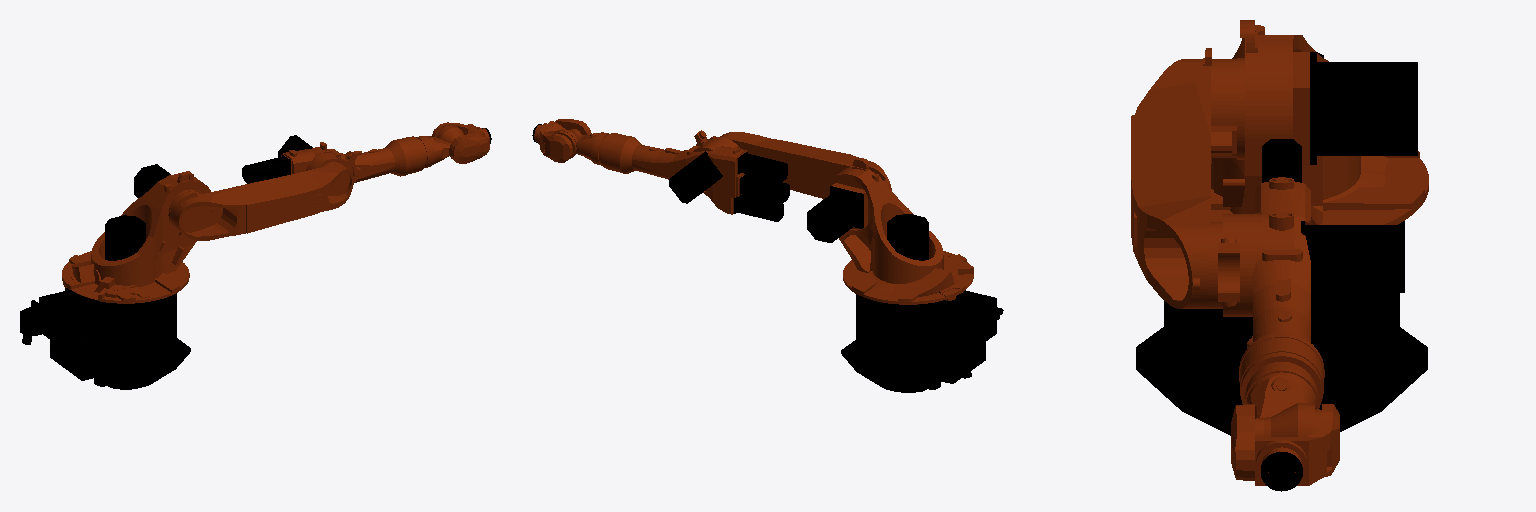
The robot description file, URDF, robot "kuka_kr16_2":
<?xml version='1.0' encoding='utf-8'?>
<robot name="kuka_kr16_2">
  
  
  <link name="base_link">
    <inertial>
      <origin rpy="0 0 0" xyz="0 0 0" />
      <mass value="2" />
      <inertia ixx="0.01" ixy="0" ixz="0" iyy="0.01" iyz="0" izz="0.01" />
    </inertial>
    <visual>
      <origin rpy="0 0 0" xyz="0 0 0" />
      <geometry>
        <mesh filename="meshes/base_link.dae" />
      </geometry>
    </visual>
    <collision>
      <origin rpy="0 0 0" xyz="0 0 0" />
      <geometry>
        <mesh filename="meshes/base_link.stl" />
      </geometry>
    </collision>
  </link>
  
  <link name="link_1">
    <inertial>
      <origin rpy="0 0 0" xyz="0 0 0" />
      <mass value="2" />
      <inertia ixx="0.01" ixy="0" ixz="0" iyy="0.01" iyz="0" izz="0.01" />
    </inertial>
    <visual>
      <origin rpy="0 0 0" xyz="0 0 0" />
      <geometry>
        <mesh filename="meshes/link_1.dae" />
      </geometry>
    </visual>
    <collision>
      <origin rpy="0 0 0" xyz="0 0 0" />
      <geometry>
        <mesh filename="meshes/link_1.stl" />
      </geometry>
    </collision>
  </link>
  
  <link name="link_2">
    <inertial>
      <origin rpy="0 0 0" xyz="0 0 0" />
      <mass value="2" />
      <inertia ixx="0.01" ixy="0" ixz="0" iyy="0.01" iyz="0" izz="0.01" />
    </inertial>
    <visual>
      <origin rpy="0 0 0" xyz="0 0 0" />
      <geometry>
        <mesh filename="meshes/link_2.dae" />
      </geometry>
    </visual>
    <collision>
      <origin rpy="0 0 0" xyz="0 0 0" />
      <geometry>
        <mesh filename="meshes/link_2.stl" />
      </geometry>
    </collision>
  </link>
  
  <link name="link_3">
    <inertial>
      <origin rpy="0 0 0" xyz="0 0 0" />
      <mass value="2" />
      <inertia ixx="0.01" ixy="0" ixz="0" iyy="0.01" iyz="0" izz="0.01" />
    </inertial>
    <visual>
      <origin rpy="0 0 0" xyz="0 0 0" />
      <geometry>
        <mesh filename="meshes/link_3.dae" />
      </geometry>
    </visual>
    <collision>
      <origin rpy="0 0 0" xyz="0 0 0" />
      <geometry>
        <mesh filename="meshes/link_3.stl" />
      </geometry>
    </collision>
  </link>
  
  <link name="link_4">
    <inertial>
      <origin rpy="0 0 0" xyz="0 0 0" />
      <mass value="2" />
      <inertia ixx="0.01" ixy="0" ixz="0" iyy="0.01" iyz="0" izz="0.01" />
    </inertial>
    <visual>
      <origin rpy="0 0 0" xyz="0 0 0" />
      <geometry>
        <mesh filename="meshes/link_4.dae" />
      </geometry>
    </visual>
    <collision>
      <origin rpy="0 0 0" xyz="0 0 0" />
      <geometry>
        <mesh filename="meshes/link_4.stl" />
      </geometry>
    </collision>
  </link>
  
  <link name="link_5">
    <inertial>
      <origin rpy="0 0 0" xyz="0 0 0" />
      <mass value="2" />
      <inertia ixx="0.01" ixy="0" ixz="0" iyy="0.01" iyz="0" izz="0.01" />
    </inertial>
    <visual>
      <origin rpy="0 0 0" xyz="0 0 0" />
      <geometry>
        <mesh filename="meshes/link_5.dae" />
      </geometry>
    </visual>
    <collision>
      <origin rpy="0 0 0" xyz="0 0 0" />
      <geometry>
        <mesh filename="meshes/link_5.stl" />
      </geometry>
    </collision>
  </link>
  
  <link name="link_6">
    <inertial>
      <origin rpy="0 0 0" xyz="0 0 0" />
      <mass value="2" />
      <inertia ixx="0.01" ixy="0" ixz="0" iyy="0.01" iyz="0" izz="0.01" />
    </inertial>
    <visual>
      <origin rpy="0 0 0" xyz="0 0 0" />
      <geometry>
        <mesh filename="meshes/link_6.dae" />
      </geometry>
    </visual>
    <collision>
      <origin rpy="0 0 0" xyz="0 0 0" />
      <geometry>
        <mesh filename="meshes/link_6.stl" />
      </geometry>
    </collision>
  </link>
  
  
  <link name="tool0" />
  
  
  
  <joint name="joint_a1" type="revolute">
    <origin rpy="0 0 0" xyz="0 0 0.675" />
    <parent link="base_link" />
    <child link="link_1" />
    <axis xyz="0 0 -1" />
    <limit effort="0" lower="-3.22885911619" upper="3.22885911619" velocity="2.72271363311" />
  </joint>
  
  <joint name="joint_a2" type="revolute">
    <origin rpy="0 0 0" xyz="0.26 0 0" />
    <parent link="link_1" />
    <child link="link_2" />
    <axis xyz="0 1 0" />
    <limit effort="0" lower="-2.70526034059" upper="0.610865238198" velocity="2.72271363311" />
  </joint>
  
  <joint name="joint_a3" type="revolute">
    <origin rpy="0 0 0" xyz="0.68 0 0" />
    <parent link="link_2" />
    <child link="link_3" />
    <axis xyz="0 1 0" />
    <limit effort="0" lower="-2.26892802759" upper="2.68780704807" velocity="2.72271363311" />
  </joint>
  
  <joint name="joint_a4" type="revolute">
    <origin rpy="0 0 0" xyz="0.67 0 -0.035" />
    <parent link="link_3" />
    <child link="link_4" />
    <axis xyz="-1 0 0" />
    <limit effort="0" lower="-6.10865238198" upper="6.10865238198" velocity="5.75958653158" />
  </joint>
  
  <joint name="joint_a5" type="revolute">
    <origin rpy="0 0 0" xyz="0 0 0" />
    <parent link="link_4" />
    <child link="link_5" />
    <axis xyz="0 1 0" />
    <limit effort="0" lower="-2.26892802759" upper="2.26892802759" velocity="5.75958653158" />
  </joint>
  
  <joint name="joint_a6" type="revolute">
    <origin rpy="0 0 0" xyz="0 0 0" />
    <parent link="link_5" />
    <child link="link_6" />
    <axis xyz="-1 0 0" />
    <limit effort="0" lower="-6.10865238198" upper="6.10865238198" velocity="10.7337748998" />
  </joint>
  
  <joint name="joint_a6-tool0" type="fixed">
    <parent link="link_6" />
    <child link="tool0" />
    <origin rpy="0 1.57079632679 0" xyz="0.158 0 0" />
  </joint>
  
  
  <link name="base" />
  <joint name="base_link-base" type="fixed">
    <origin rpy="0 0 0" xyz="0 0 0" />
    <parent link="base_link" />
    <child link="base" />
  </joint>
</robot>

--- Facts derived from the render (not from the file) ---
Views: 3 orthographic renders of the robot side by side, from view 1: azimuth 30°, elevation 25°; view 2: azimuth 150°, elevation 25°; view 3: azimuth 270°, elevation 25°.
Robot: kuka_kr16_2 — 9 links, 8 joints (6 revolute, 2 fixed); root link base_link; default pose: all joints at 0.
Links seen in each view (by area): view 1: base_link, link_1, link_2, link_3, link_4, link_5; view 2: link_1, base_link, link_3, link_2, link_4, link_5; view 3: link_1, link_3, link_2, base_link, link_4, link_5, link_6.
Link boxes in pixels (x1,y1,x2,y2): base_link: [20, 288, 190, 389]; link_1: [62, 164, 210, 303]; link_2: [170, 163, 355, 240]; link_3: [242, 135, 409, 183]; link_4: [398, 125, 463, 174]; link_5: [432, 122, 489, 163]; link_1: [807, 158, 973, 304]; base_link: [841, 290, 1003, 392]; link_3: [616, 130, 789, 221]; link_2: [720, 132, 891, 198]; link_4: [554, 129, 626, 171]; link_5: [534, 119, 591, 162]; link_1: [1211, 20, 1428, 224]; link_3: [1218, 139, 1397, 381]; link_2: [1131, 48, 1236, 308]; base_link: [1136, 221, 1427, 435]; link_4: [1240, 338, 1323, 436]; link_5: [1231, 404, 1339, 485]; link_6: [1261, 452, 1302, 491].
Bounding box of the posed robot: 2.17 × 0.5464 × 0.8459 m (x, y, z).
7 mesh visuals loaded from 7 distinct referenced files (7 Collada DAE).
